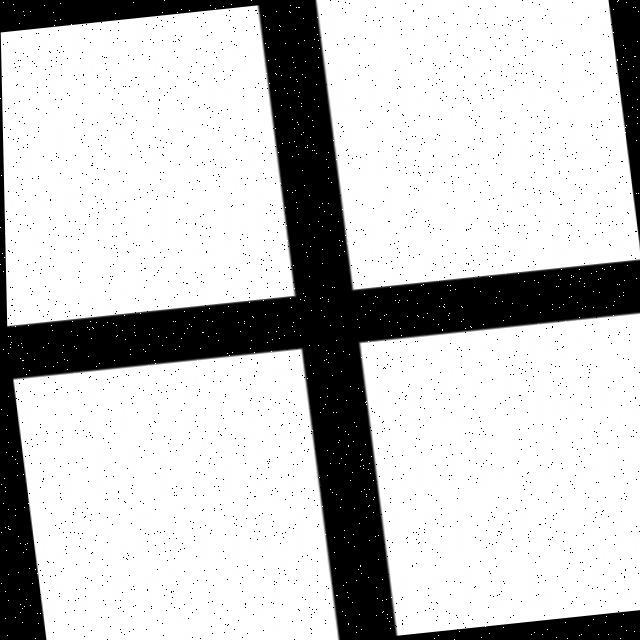cross: (170, 183, 491, 455)
